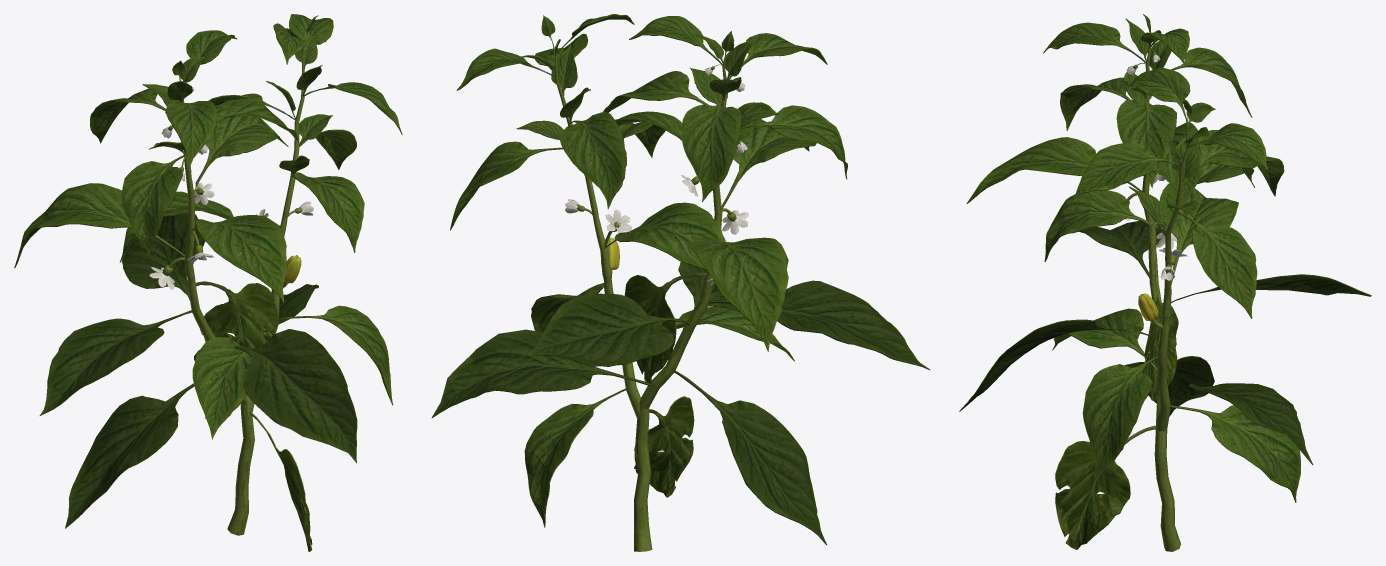
3 renders of one model, left to right at view 1: azimuth 30°, elevation 25°; view 2: azimuth 150°, elevation 25°; view 3: azimuth 270°, elevation 25°, orthographic. The views are drawn at different scales.
Visible parts, largest first — view 1: VG07_018; view 2: VG07_018; view 3: VG07_018.
Boxes of the visible parts, bbox=[...] form: VG07_018: bbox=[14, 14, 402, 551]; VG07_018: bbox=[431, 14, 930, 551]; VG07_018: bbox=[959, 14, 1371, 551].
Size of the model in its own units: 0.484 by 0.4571 by 0.6175.
Materials: 8 (8 with a texture image).
